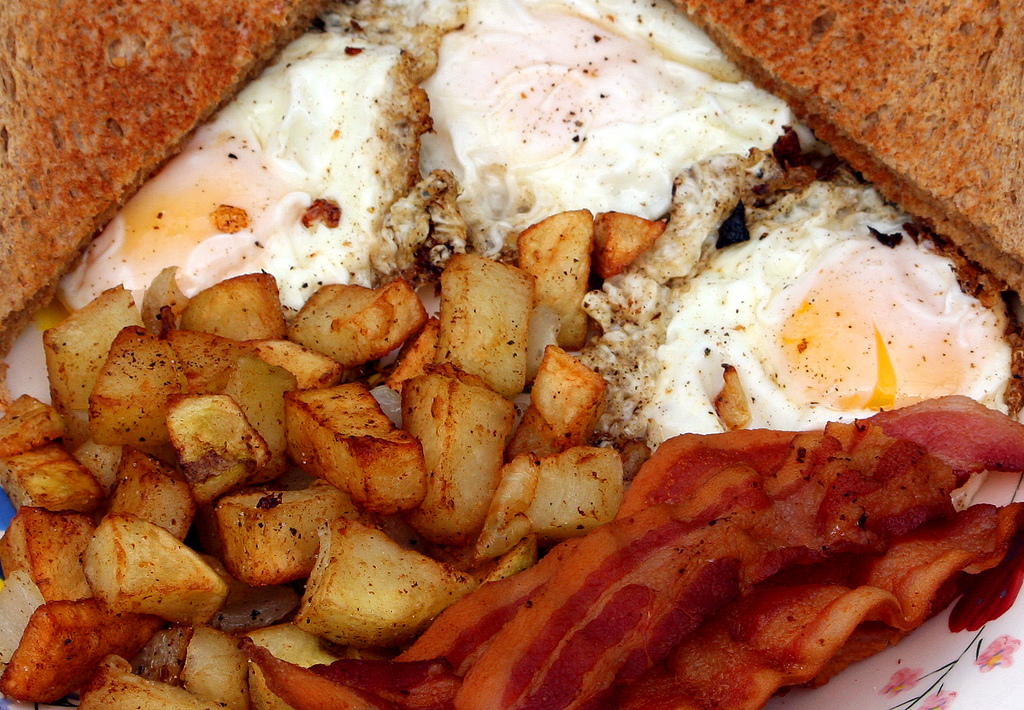boiled potatoes: (83, 332, 445, 573)
fried egg: (424, 29, 940, 419), (99, 103, 478, 268)
